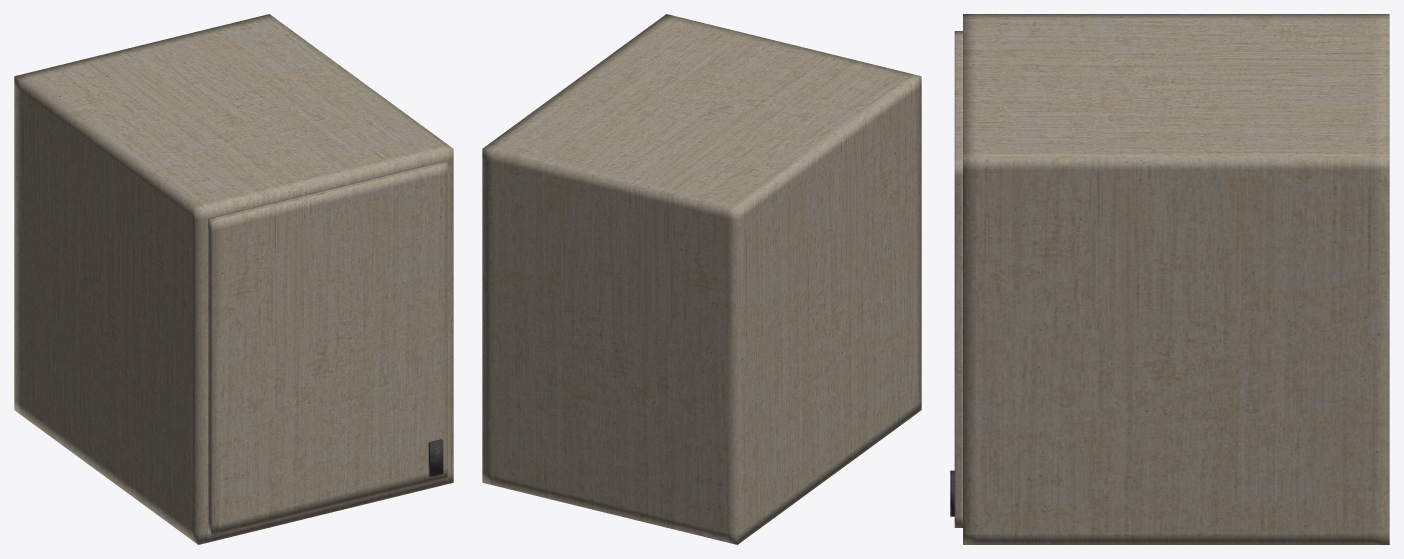
Rendered from cabinet.high.001.fbx.
3 views of the same model, side by side, from view 1: azimuth 30°, elevation 25°; view 2: azimuth 150°, elevation 25°; view 3: azimuth 270°, elevation 25° (orthographic). The views are drawn at different scales.
Parts seen in each view (by area): view 1: Base, Drawer.001, Handle.001; view 2: Base; view 3: Base, Drawer.001.
Boxes of the visible parts, x1=… form: Base: x1=14, y1=14, x2=453, y2=544; Drawer.001: x1=208, y1=161, x2=447, y2=535; Handle.001: x1=428, y1=439, x2=443, y2=476; Base: x1=482, y1=14, x2=921, y2=544; Base: x1=963, y1=14, x2=1389, y2=544; Drawer.001: x1=954, y1=31, x2=962, y2=527.
Bounding box in the file's own units: 80 × 100 × 103.
